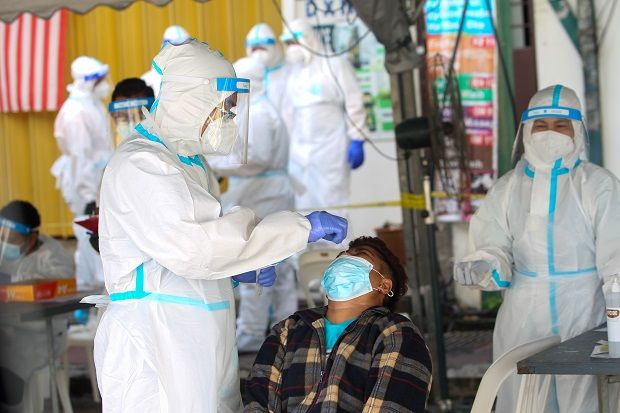Coverall: (91, 43, 306, 413), (461, 78, 620, 413), (213, 56, 300, 355), (276, 17, 368, 239), (49, 52, 121, 299)
Face_Shield: (190, 74, 253, 171), (508, 104, 592, 176), (107, 93, 158, 147), (1, 213, 36, 261)
Gloves: (301, 205, 349, 247), (225, 257, 281, 289), (449, 251, 494, 287), (346, 138, 365, 170)
mask_weared_incorrect: (321, 241, 380, 307)
with_mask: (198, 88, 239, 158), (528, 115, 581, 164), (284, 39, 311, 68), (252, 44, 271, 69)
